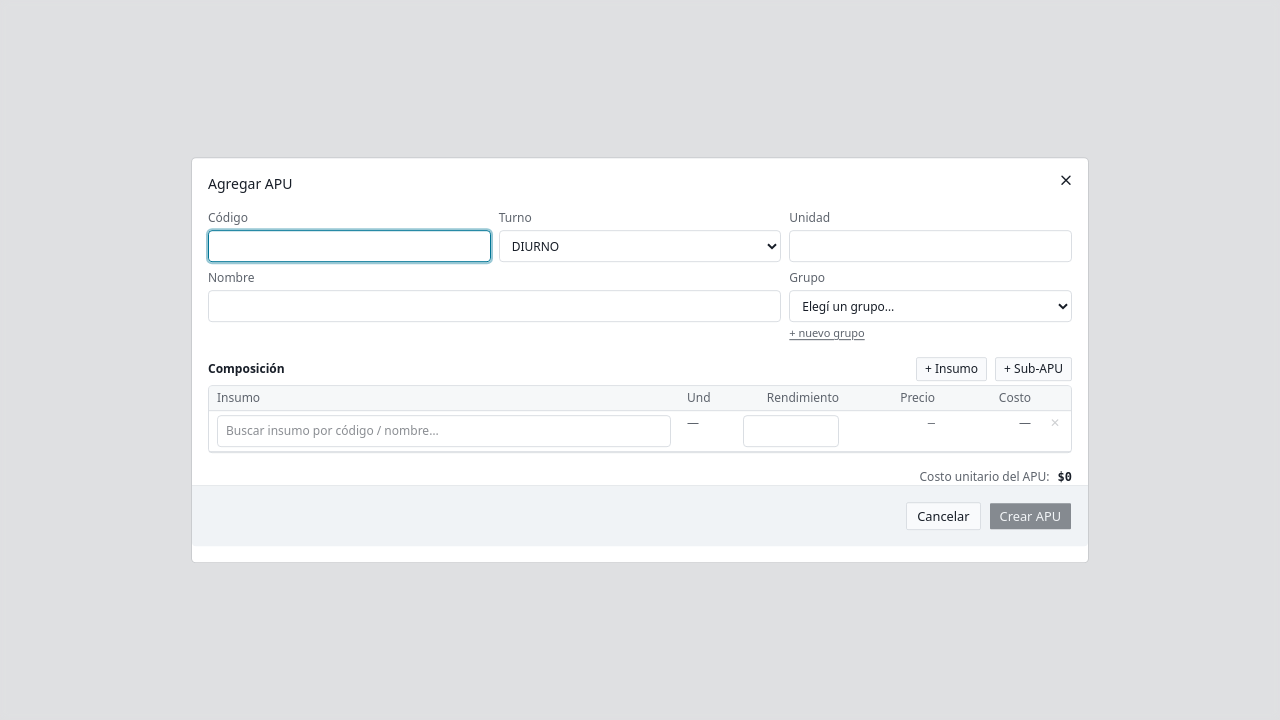
Scenario: '+ nuevo grupo' con una variante de ortografía reusa el grupo del vocabulario en vez de duplicarlo
Click the button "+ nuevo grupo" at [827, 334], box x1=789 y1=326 x2=865 y2=341
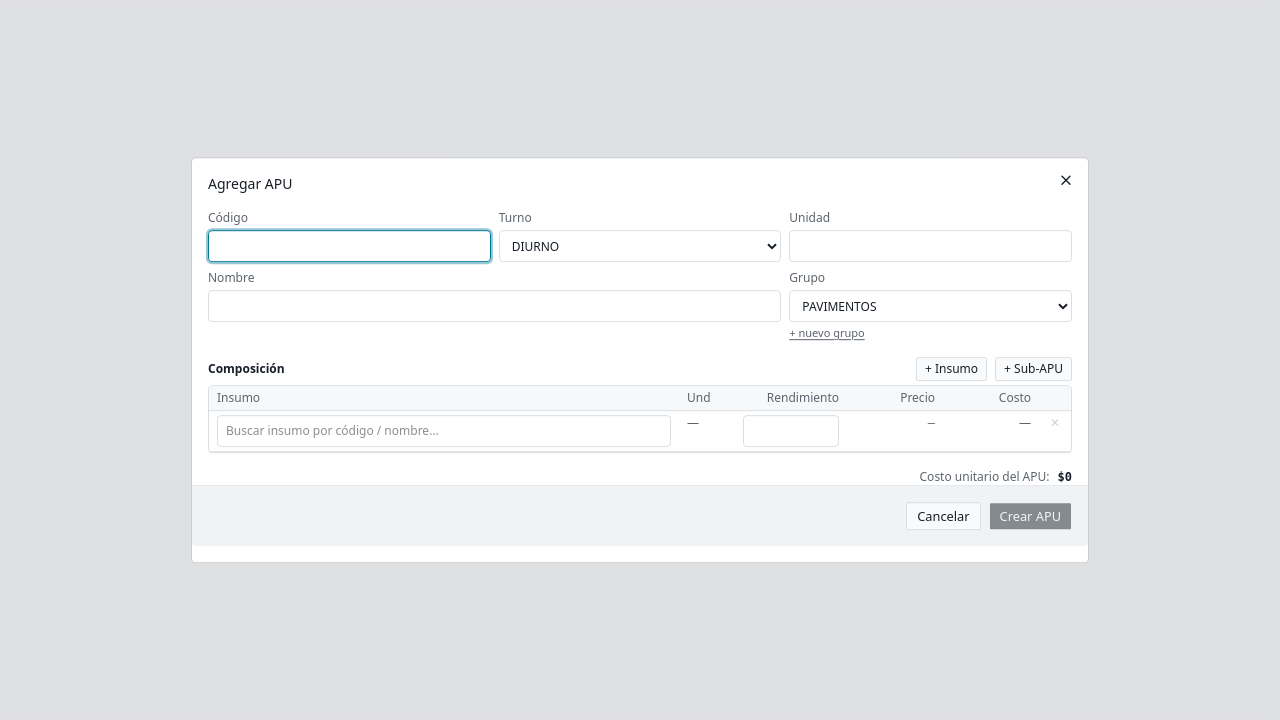
Expected: the dropdown labelled "Grupo" shows "PAVIMENTOS", x1=789 y1=290 x2=1072 y2=322
